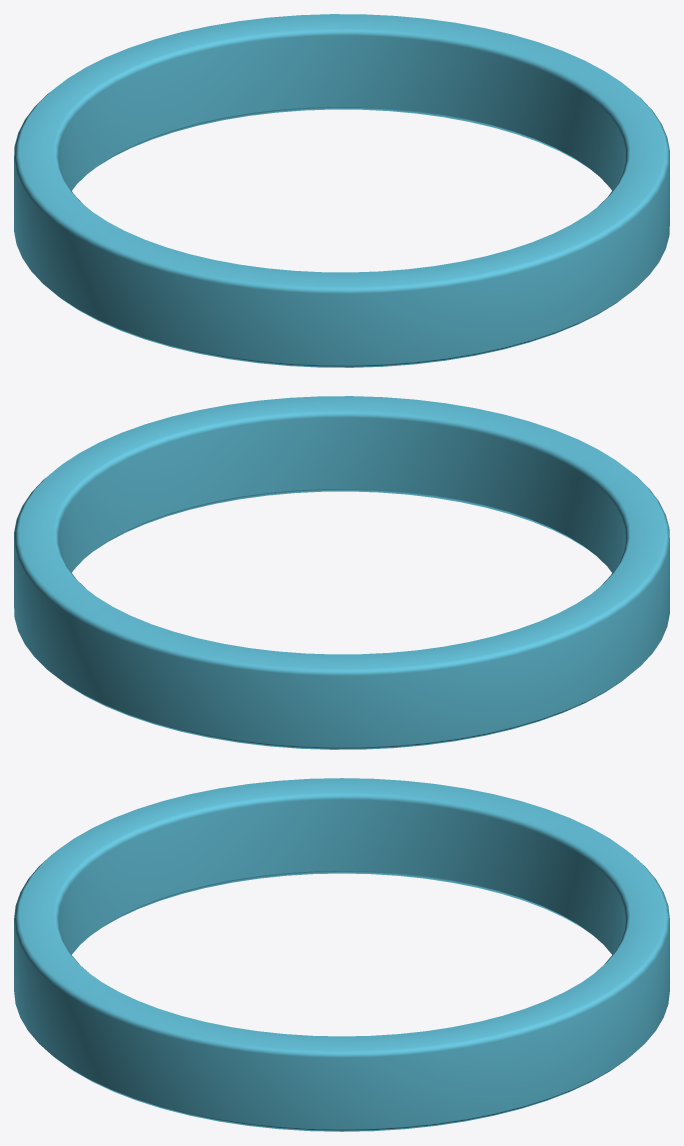
3 renders of one model, top to bottom at view 1: azimuth 30°, elevation 25°; view 2: azimuth 150°, elevation 25°; view 3: azimuth 270°, elevation 25°, orthographic.
Parts seen in each view (by area): view 1: seal_body; view 2: seal_body; view 3: seal_body.
Boxes of the visible parts, x1,y1,x2,y2 form: seal_body: (14,14,669,367); seal_body: (14,396,669,749); seal_body: (14,778,669,1131).
Size of the model in its own units: 0.0698 by 0.00952 by 0.0698.
